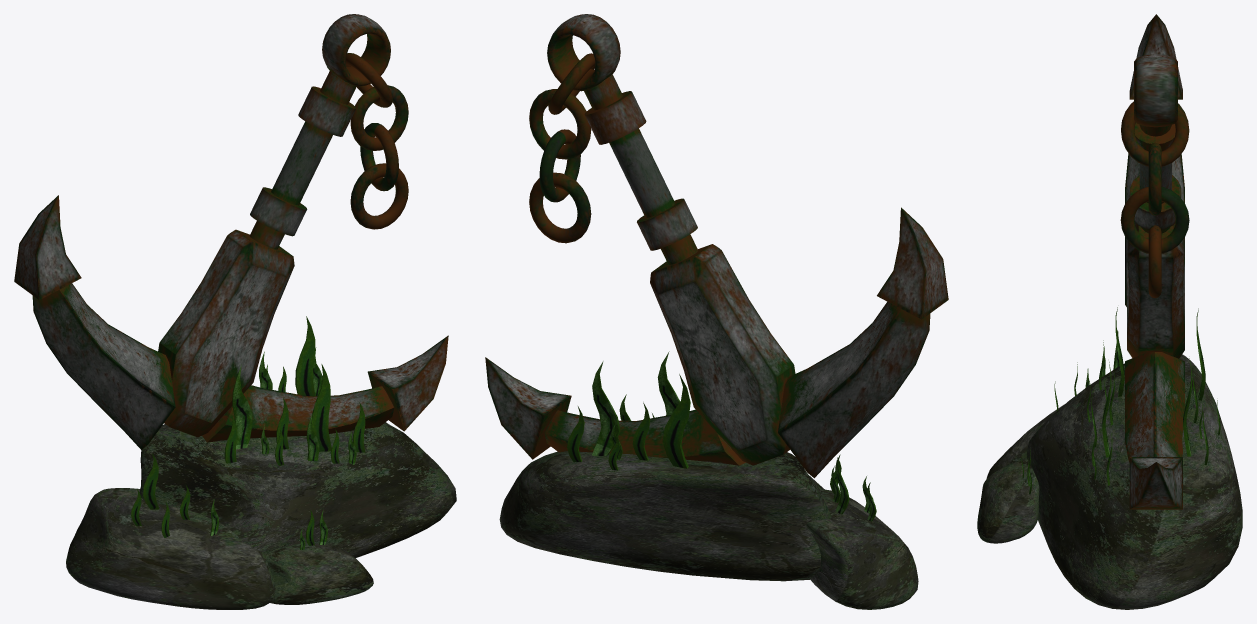
Rendered from decor (1).glb.
3 renders of one model, left to right at view 1: azimuth 30°, elevation 25°; view 2: azimuth 150°, elevation 25°; view 3: azimuth 270°, elevation 25°, orthographic. The views are drawn at different scales.
Visible parts, largest first — view 1: Box001__0; view 2: Box001__0; view 3: Box001__0.
Part boxes in pixels (x1,y1,x2,y2): Box001__0: [14, 14, 456, 609]; Box001__0: [485, 14, 948, 609]; Box001__0: [977, 14, 1242, 609].
Bounding box in the file's own units: 75.39 × 85.13 × 39.02.
Materials: 1 (1 with a texture image).
